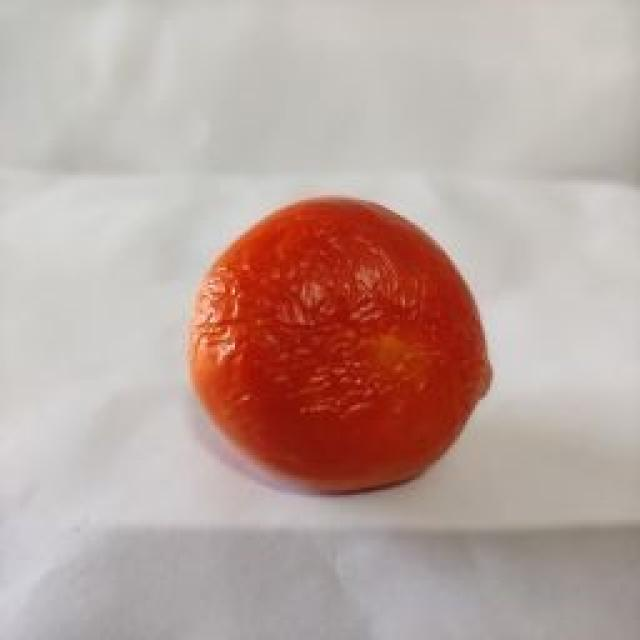overripe: (182, 193, 500, 496)
